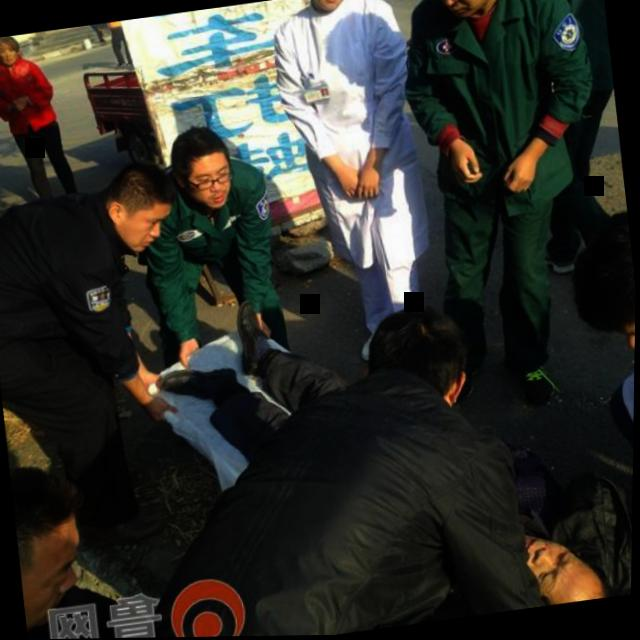Fall-Detected: (115, 317, 343, 532)
